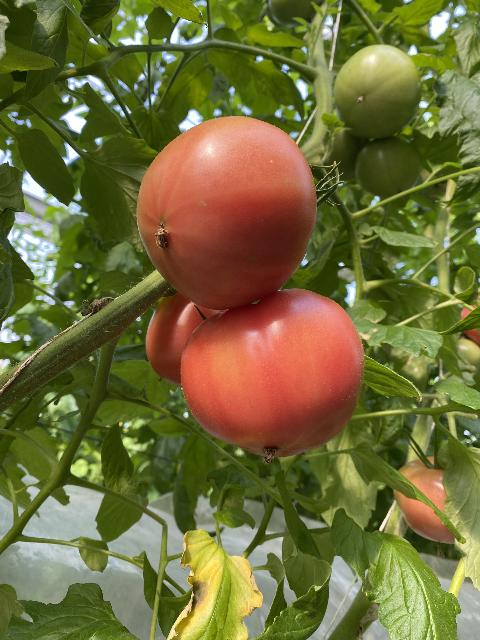b_fully_ripened: (137, 116, 316, 310), (180, 288, 366, 460), (145, 290, 227, 386)
b_green: (333, 44, 421, 140), (355, 134, 424, 199)
b_half_ripened: (392, 456, 454, 544)
